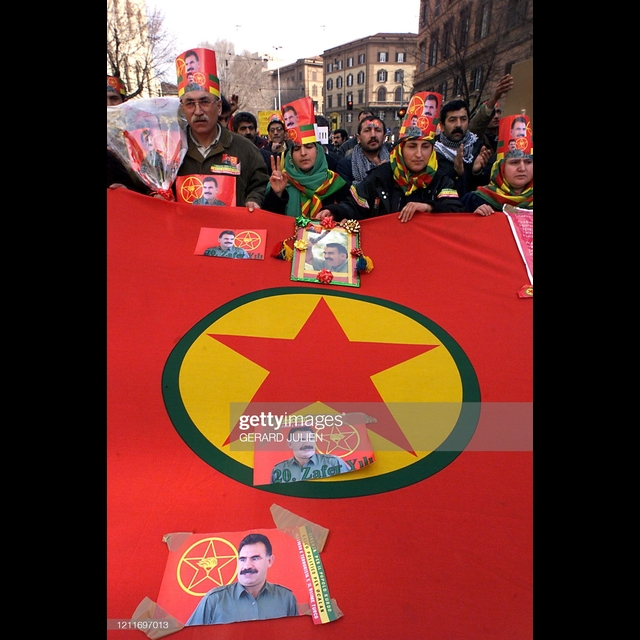APO: (231, 536, 280, 608), (209, 229, 243, 259), (319, 237, 349, 269)
PKK: (153, 287, 481, 496)
